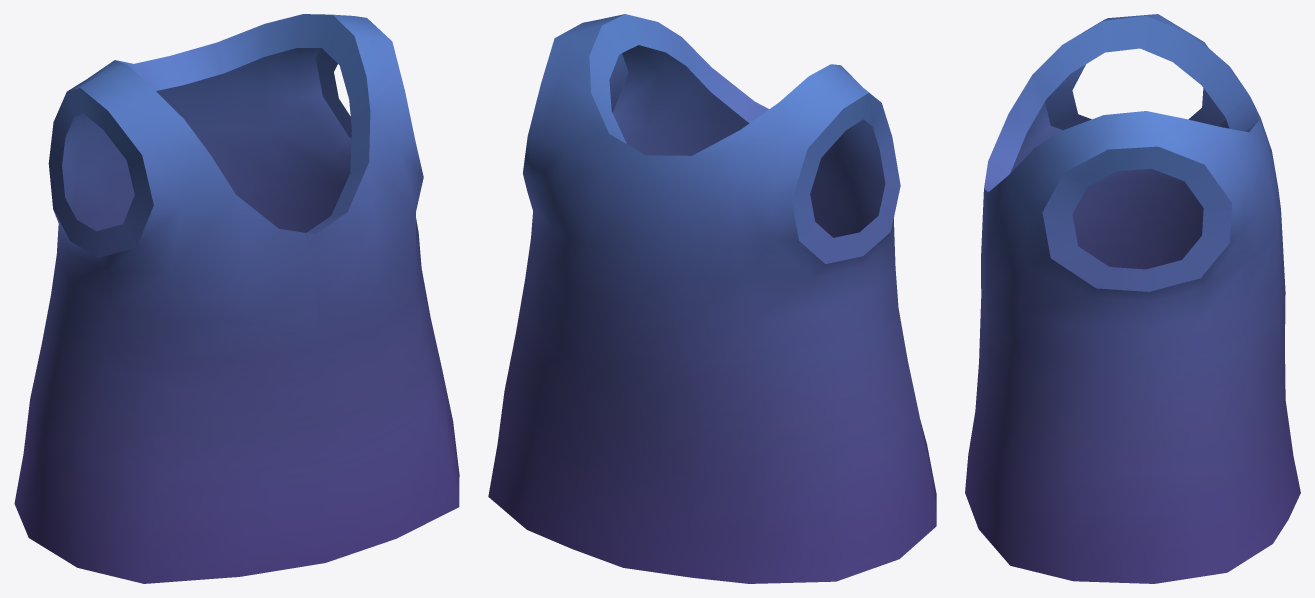
The model's file is Outwear_56.glb.
3 views of the same model, side by side, from view 1: azimuth 30°, elevation 25°; view 2: azimuth 150°, elevation 25°; view 3: azimuth 270°, elevation 25° (orthographic). The views are drawn at different scales.
Parts seen in each view (by area): view 1: Outwear_56; view 2: Outwear_56; view 3: Outwear_56.
Part boxes in pixels (x1,y1,x2,y2): Outwear_56: [14, 14, 459, 583]; Outwear_56: [488, 14, 936, 583]; Outwear_56: [965, 14, 1300, 583].
Size of the model in its own units: 0.2901 by 0.319 by 0.2261.
Materials: 1 (1 with a texture image).
